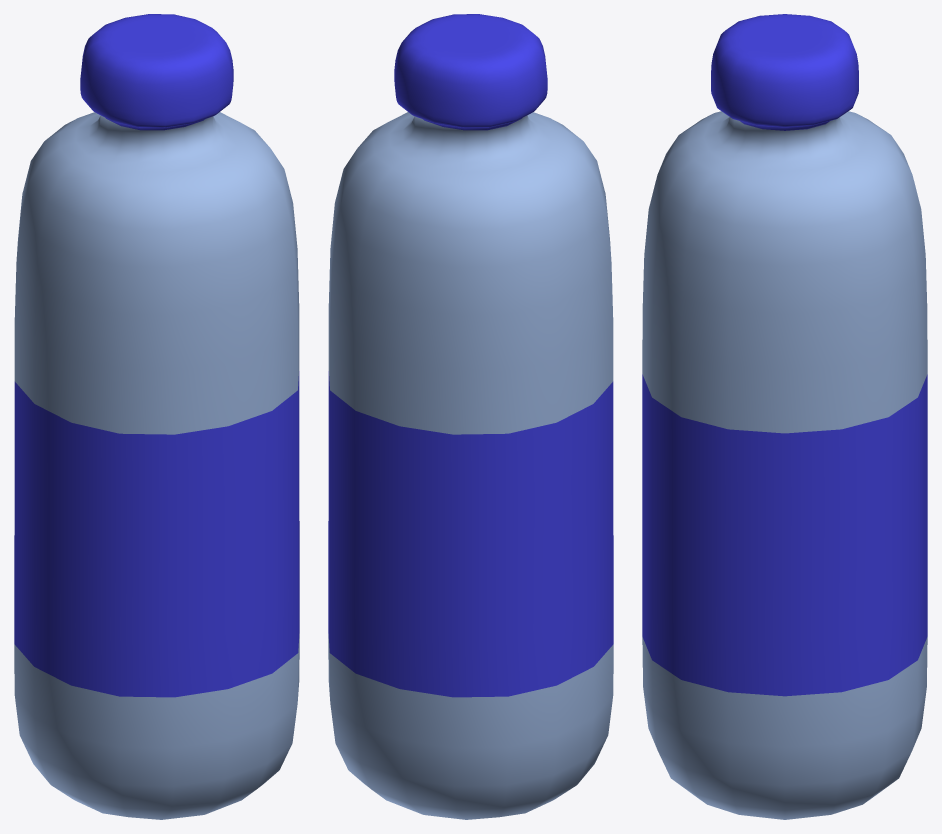
File: botella.fbx
3 renders of one model, left to right at view 1: azimuth 30°, elevation 25°; view 2: azimuth 150°, elevation 25°; view 3: azimuth 270°, elevation 25°, orthographic.
Visible parts, largest first — view 1: Cube; view 2: Cube; view 3: Cube.
Boxes of the visible parts, bbox=[...] form: Cube: bbox=[14, 14, 299, 819]; Cube: bbox=[328, 14, 613, 819]; Cube: bbox=[642, 14, 927, 819].
Size of the model in its own units: 152 by 448 by 153.
